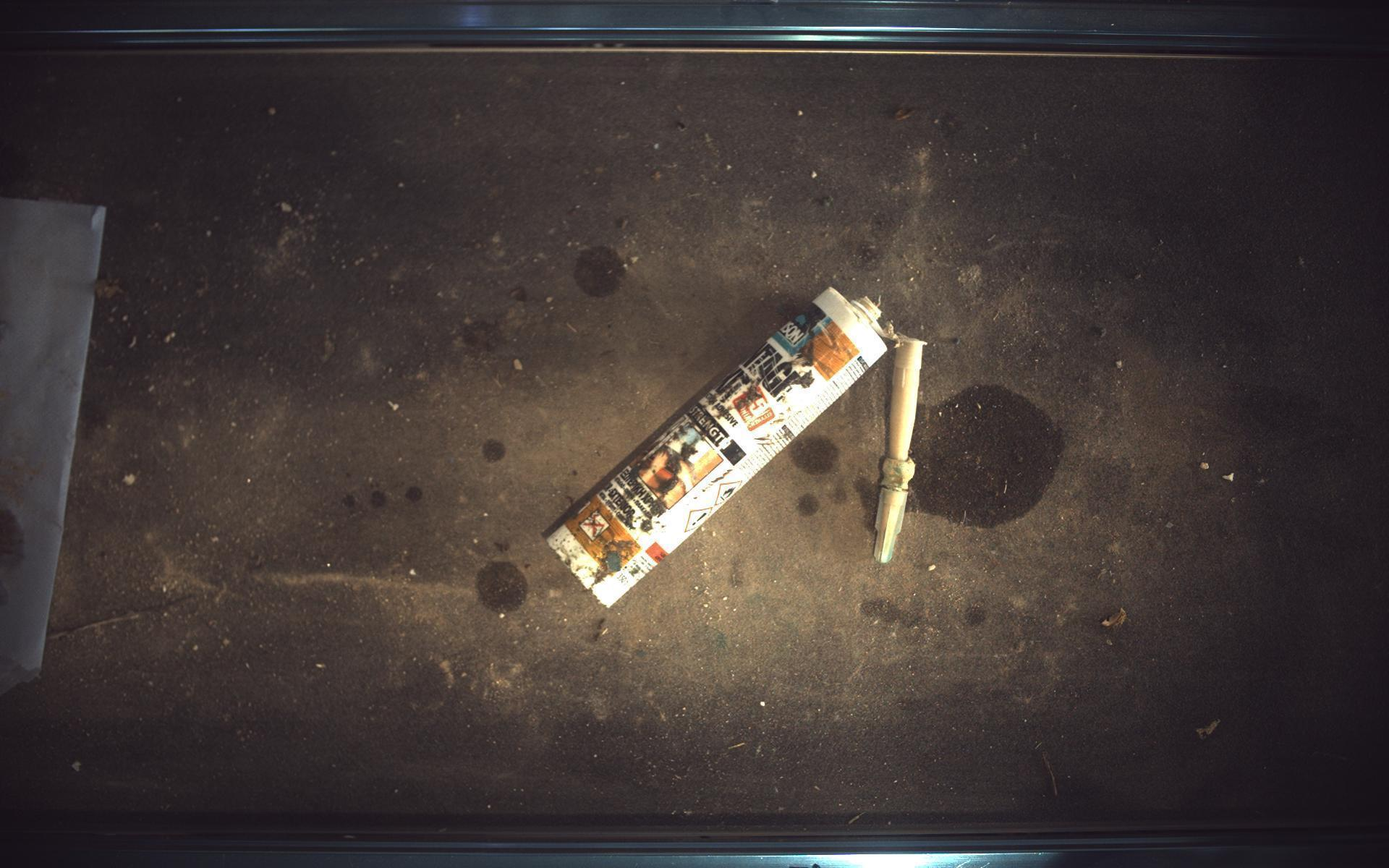plastic: (545, 287, 926, 608)
